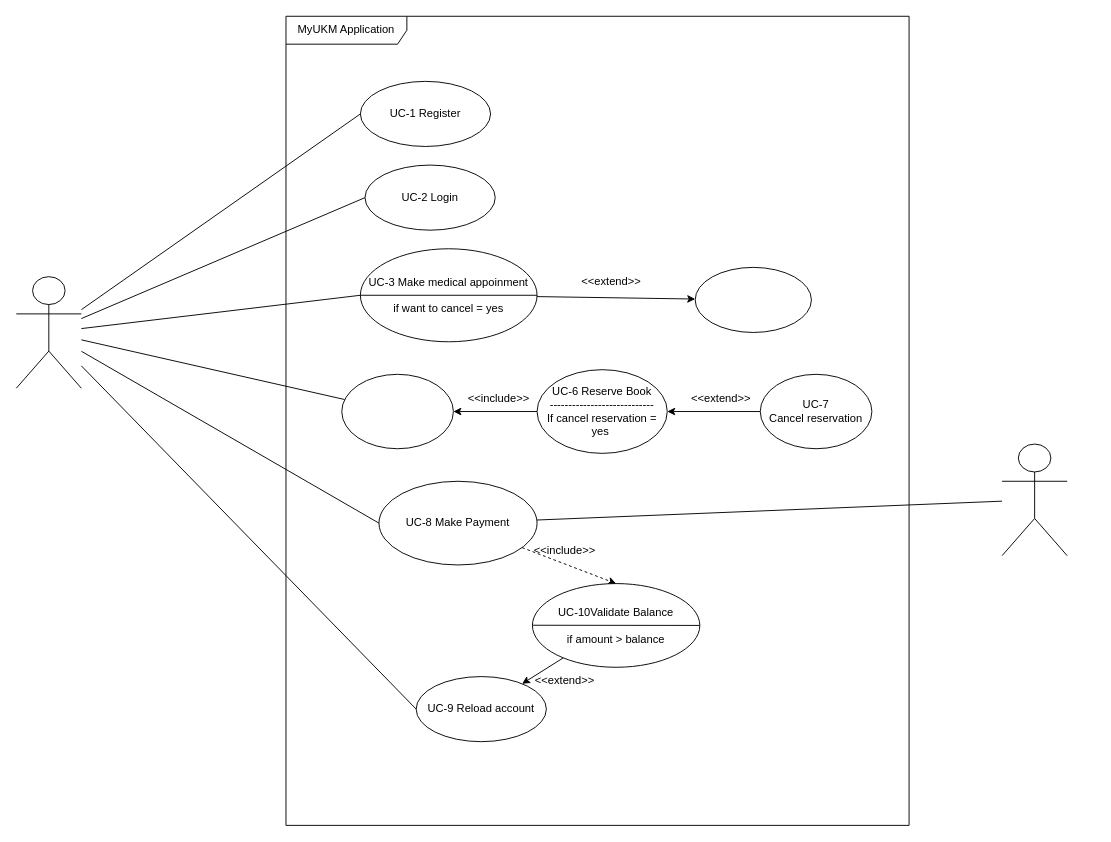
Some shapes in this 1111 by 842 pixel diagram are drawn without their labels. Each missing label, with the centre of its shape:
"Payment Gateway" goes at point 1034,499.
"UC-4 Cancel medical appoinment" goes at point 752,299.
"UC-5 Search Book" goes at point 397,411.
"User" goes at point 48,332.
